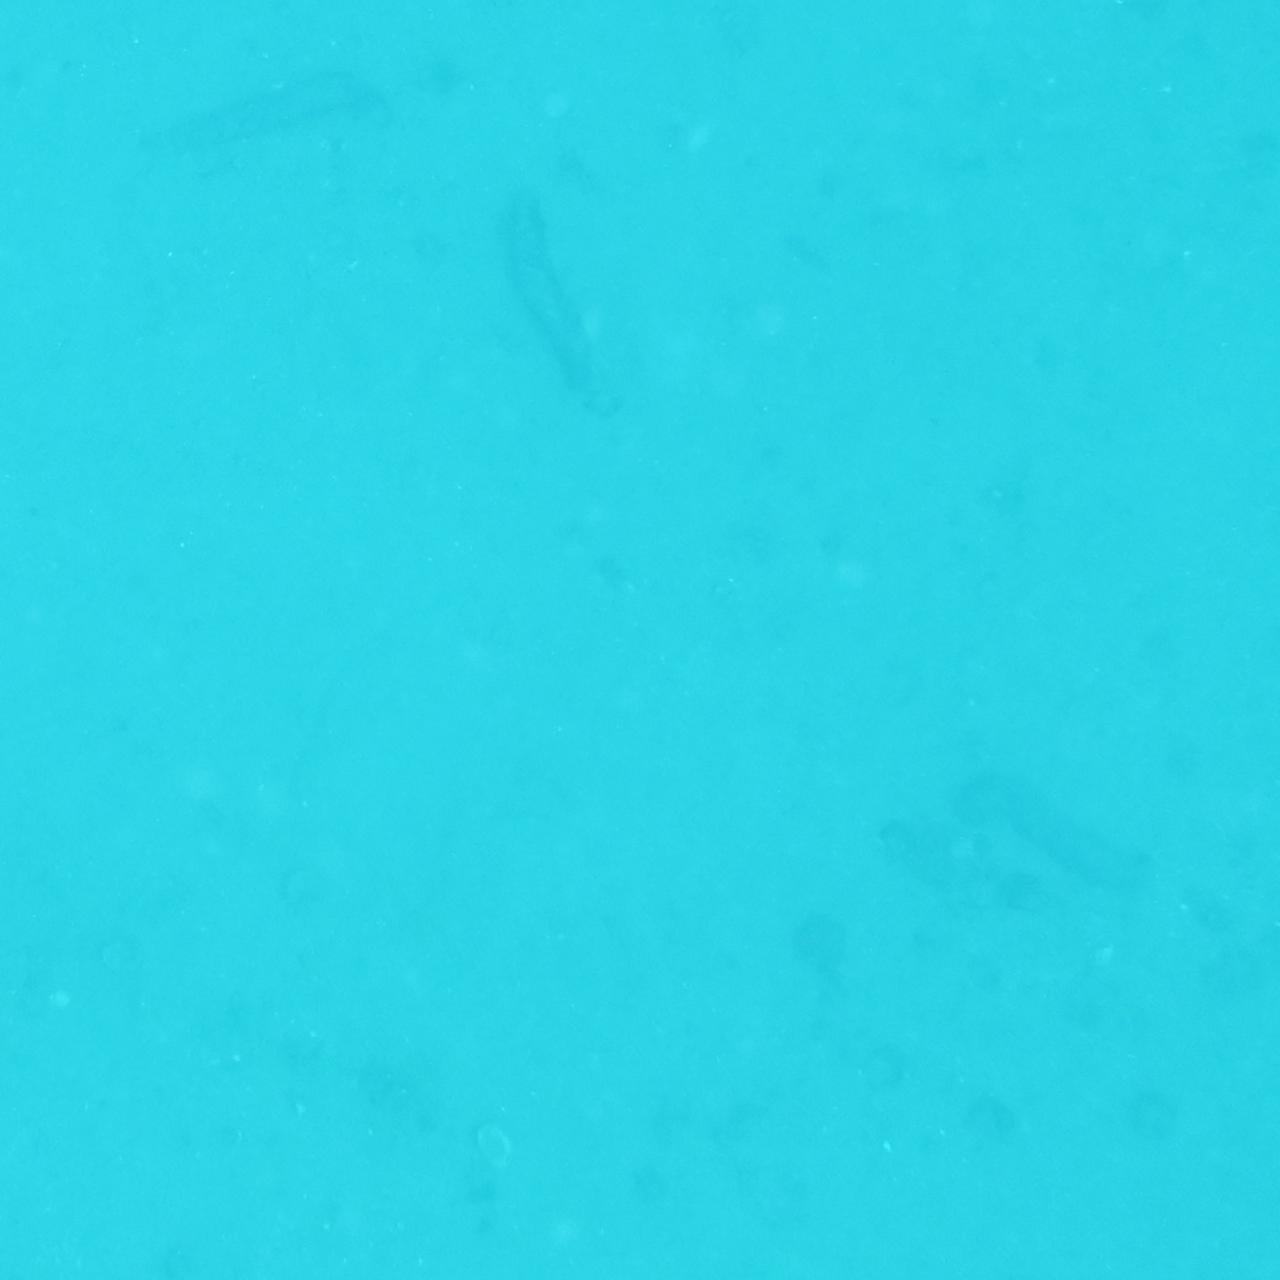Holothuria tubulosa: (960, 736, 1158, 903), (503, 176, 621, 433), (150, 61, 381, 175), (132, 0, 312, 83), (751, 1228, 1035, 1280)
